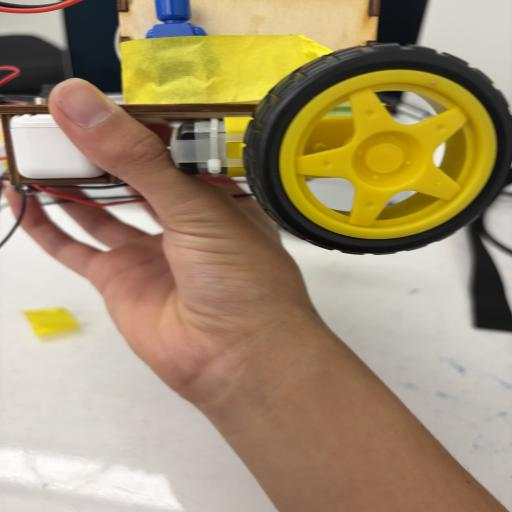Blue-Lego: (145, 0, 207, 39)
